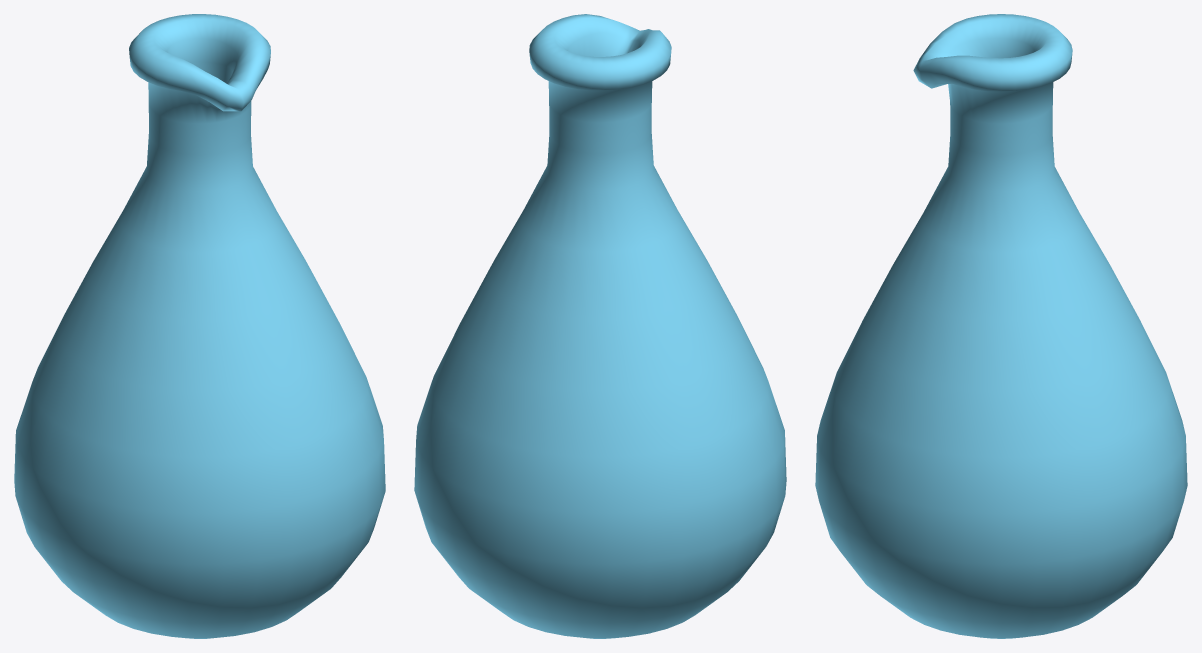
File: Flask, Kjeldahl, Short Neck, Spout.fbx
3 renders of one model, left to right at view 1: azimuth 30°, elevation 25°; view 2: azimuth 150°, elevation 25°; view 3: azimuth 270°, elevation 25°, orthographic.
Visible parts, largest first — view 1: Flask, Kjeldahl, Short Neck, Spout; view 2: Flask, Kjeldahl, Short Neck, Spout; view 3: Flask, Kjeldahl, Short Neck, Spout.
Boxes of the visible parts, x1,y1,x2,y2 form: Flask, Kjeldahl, Short Neck, Spout: (14, 14, 385, 638); Flask, Kjeldahl, Short Neck, Spout: (414, 14, 786, 638); Flask, Kjeldahl, Short Neck, Spout: (815, 14, 1187, 638).
Size of the model in its own units: 0.5726 by 0.9953 by 0.5726.
